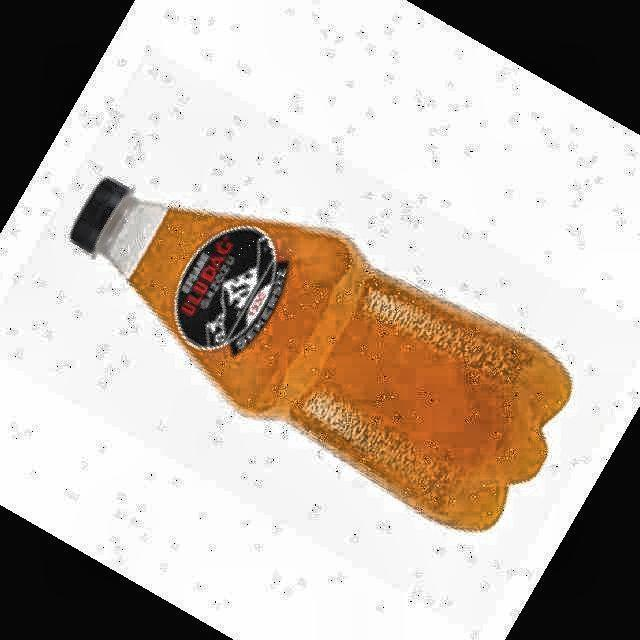plastic: (71, 179, 571, 529)
